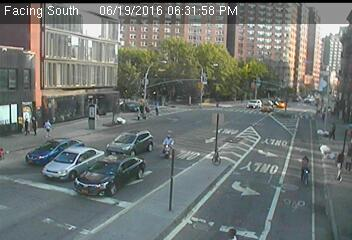neg: (92, 183, 123, 224), (244, 56, 274, 95), (20, 125, 48, 162), (294, 151, 320, 186), (216, 98, 241, 132), (182, 65, 206, 98), (323, 128, 347, 160), (65, 81, 88, 112), (279, 76, 302, 107), (21, 83, 44, 113), (75, 156, 97, 186), (158, 133, 180, 162), (96, 99, 118, 128), (70, 34, 92, 63), (22, 36, 44, 64), (137, 63, 157, 91), (109, 28, 128, 53), (161, 200, 179, 224), (213, 36, 230, 59), (322, 60, 337, 81), (212, 146, 226, 165)
